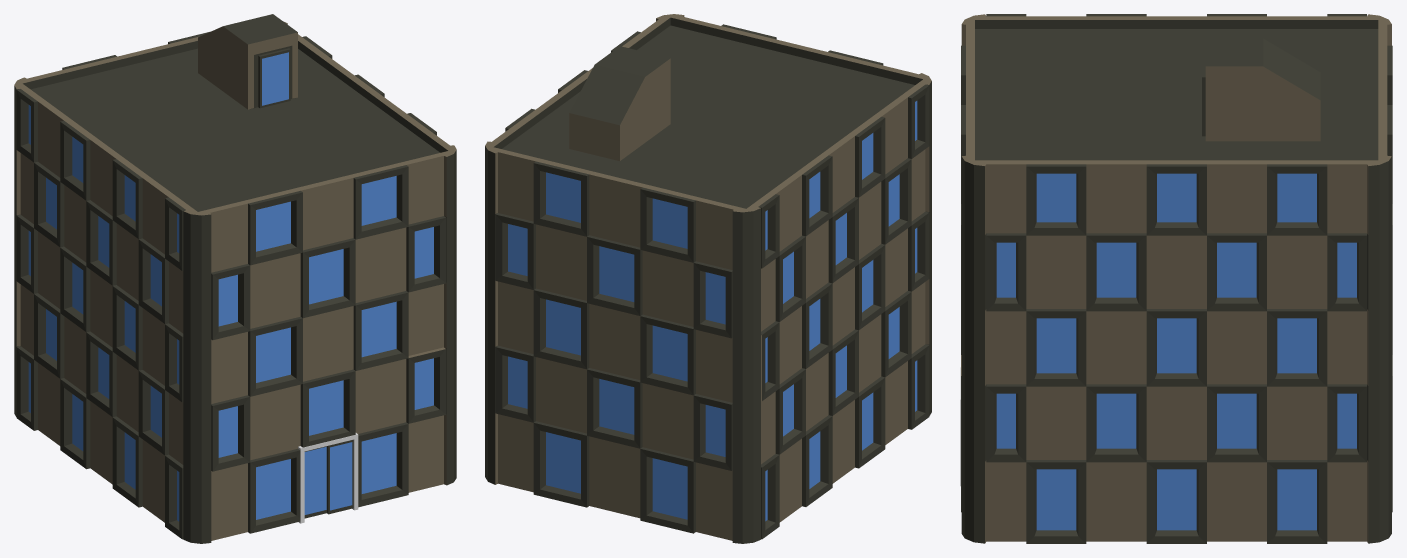
The model's file is Hotel.fbx.
3 renders of one model, left to right at view 1: azimuth 30°, elevation 25°; view 2: azimuth 150°, elevation 25°; view 3: azimuth 270°, elevation 25°, orthographic. The views are drawn at different scales.
Visible parts, largest first — view 1: Cube.029; view 2: Cube.029; view 3: Cube.029.
Part boxes in pixels (x1,y1,x2,y2): Cube.029: (14, 14, 456, 543); Cube.029: (485, 14, 931, 543); Cube.029: (960, 14, 1392, 543).
Bounding box in the file's own units: 1860 × 2535 × 2228.
